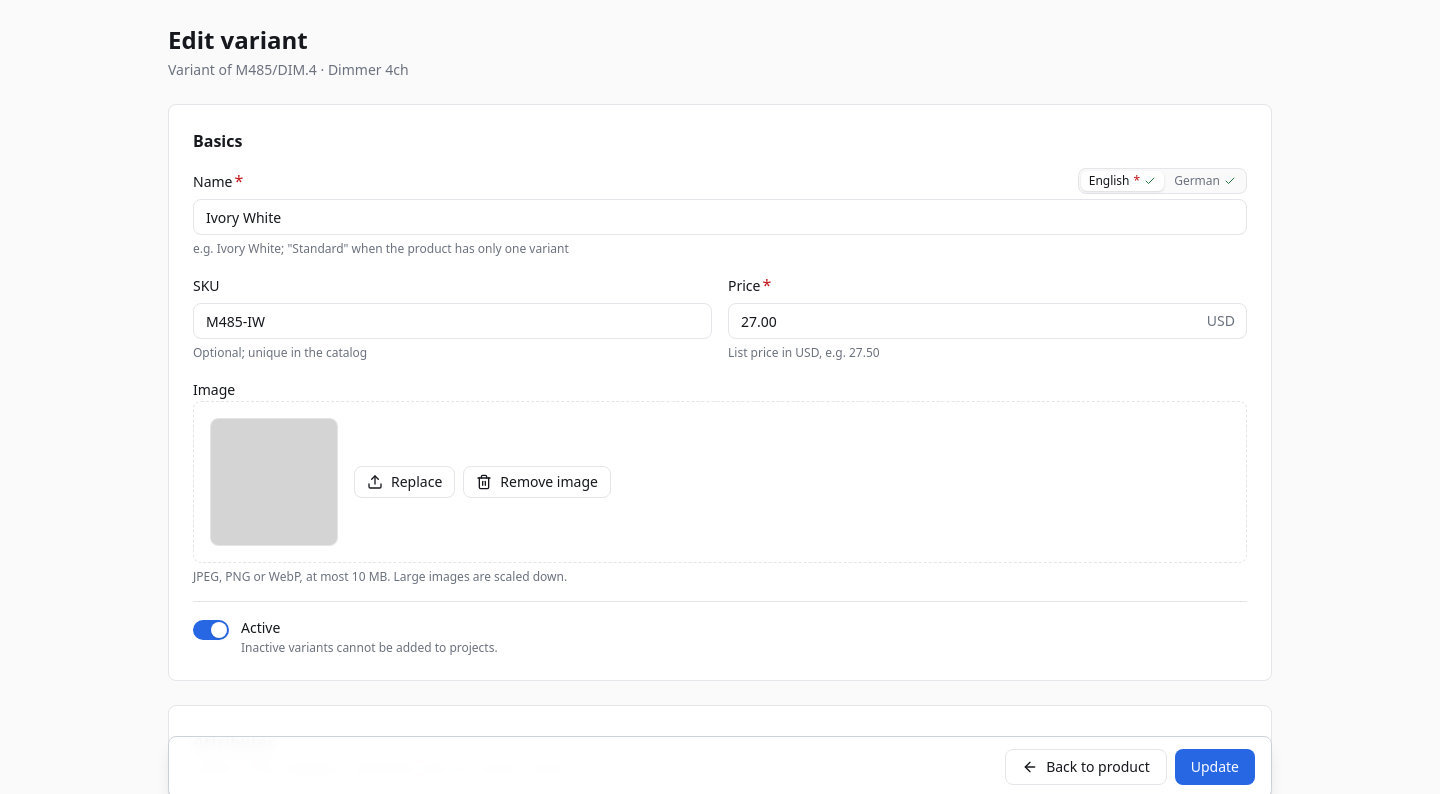
Test case: VariantEditorPage › updates a variant and clears its image by leaving it out
The width and height of the screenshot is (1440, 794).
Expected: the field labelled "Price" holds "27.00", x1=728 y1=303 x2=1247 y2=339
Expected: the field labelled "SKU" holds "M485-IW", x1=193 y1=303 x2=712 y2=339
Click the button "Remove image". click: (537,482)
box: x1=463 y1=466 x2=611 y2=498
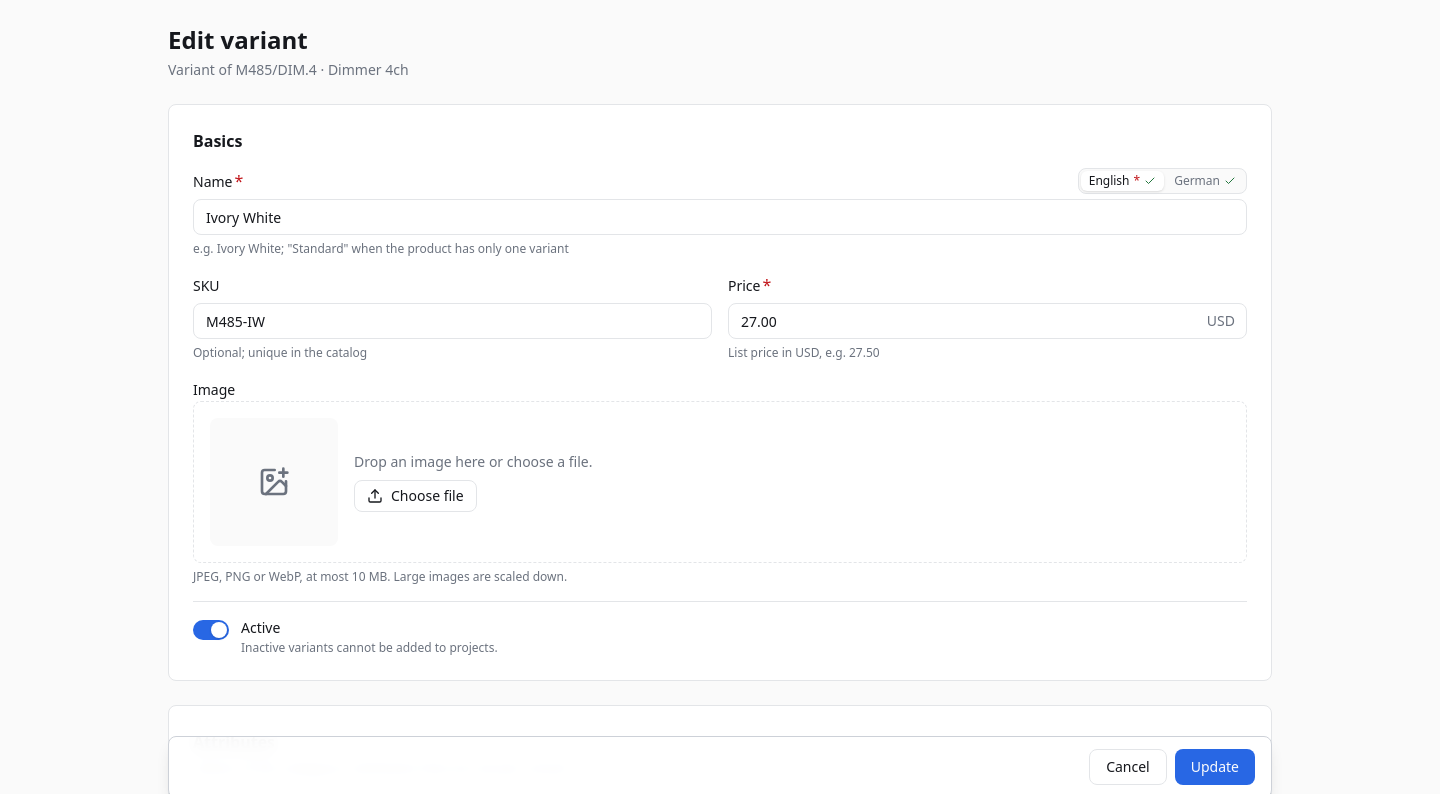
Clear the field labelled "SKU". click: (452,321)
box: x1=193 y1=303 x2=712 y2=339
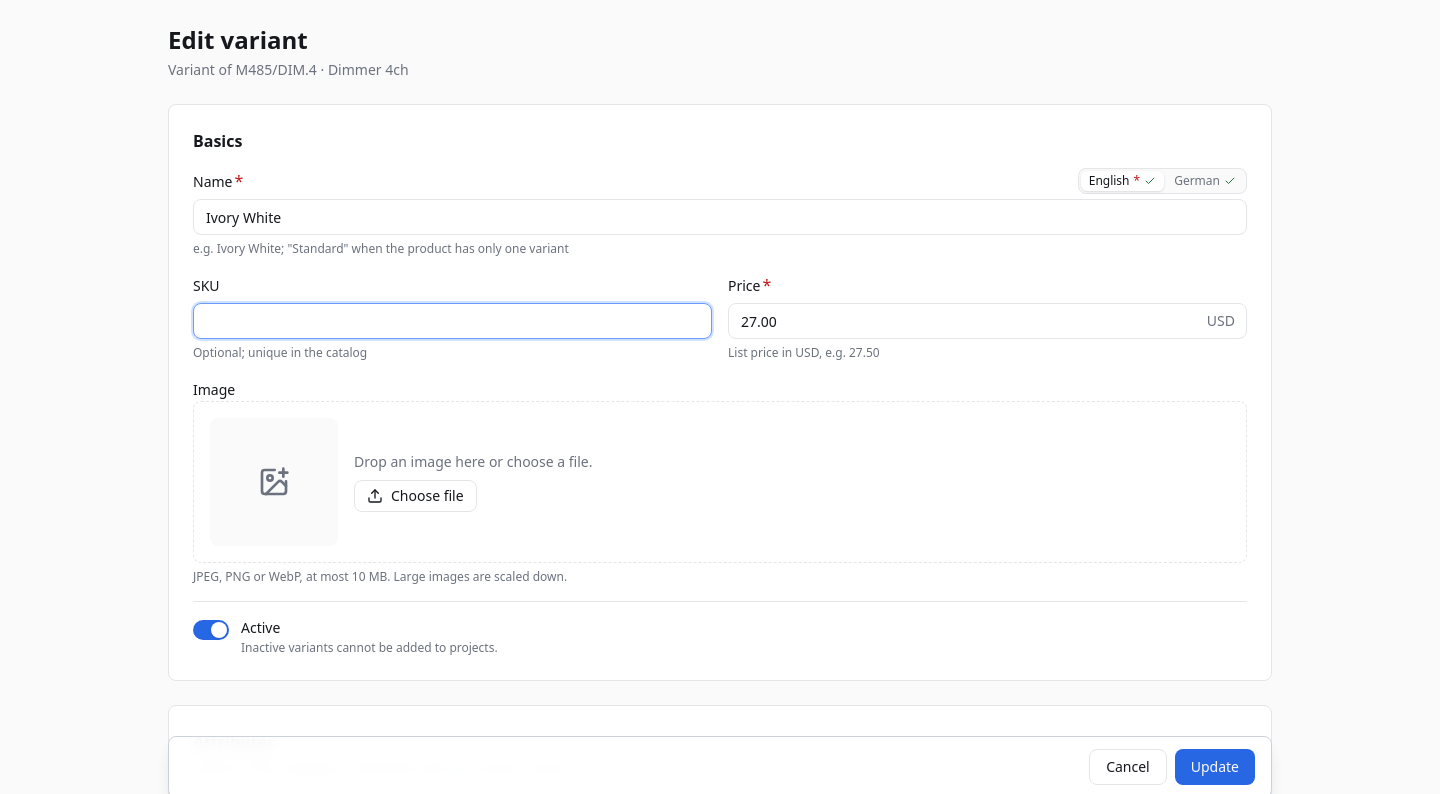
Click the button "Update". click: (1215,767)
box: x1=1175 y1=749 x2=1255 y2=785
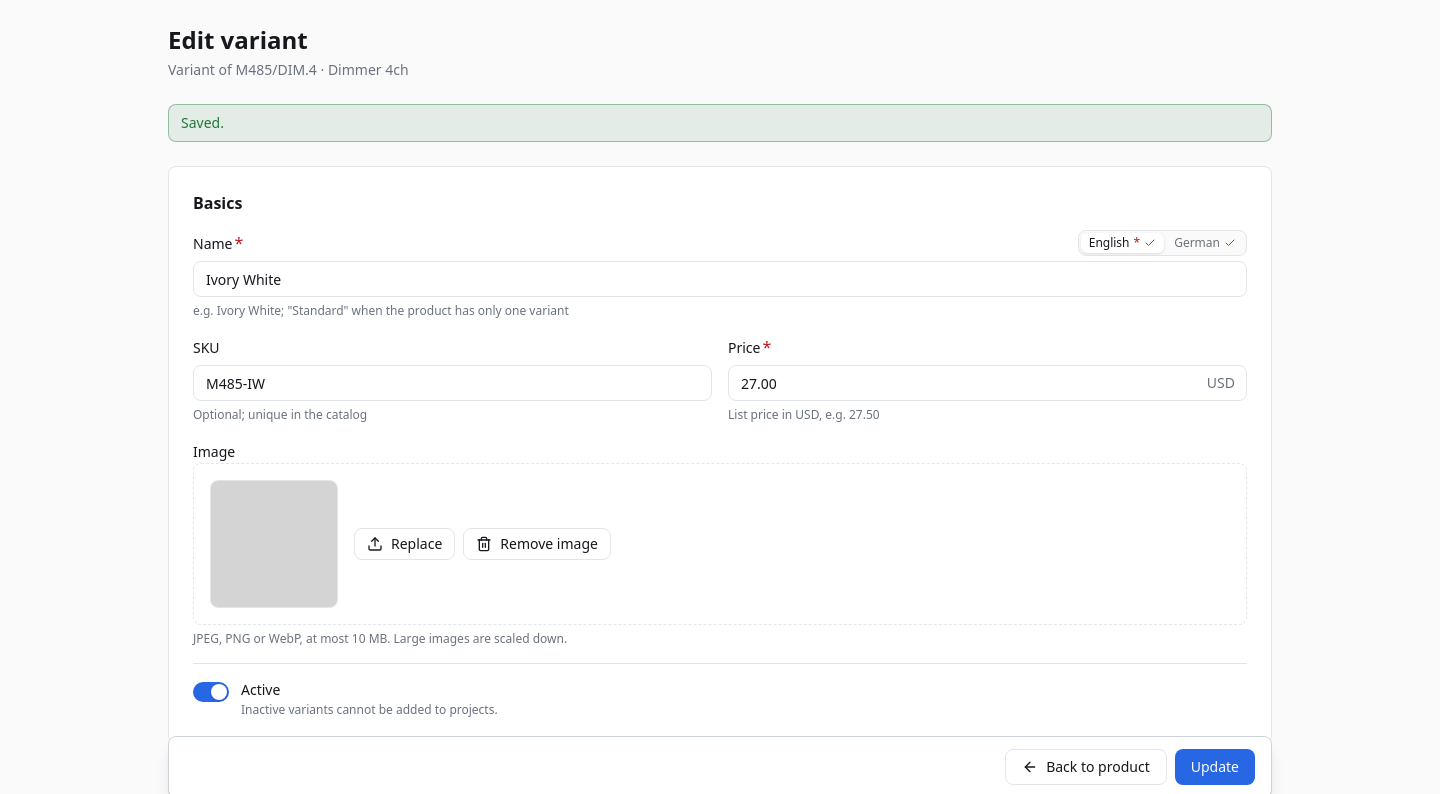
Expected: the text "Saved." is shown, x1=168 y1=104 x2=1272 y2=142
